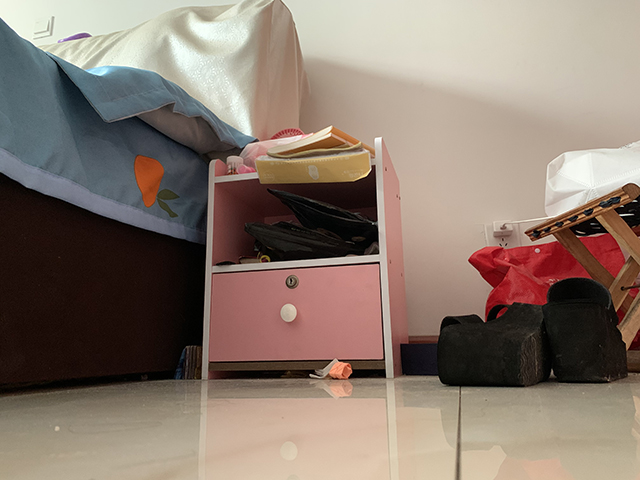bed: (1, 1, 309, 396)
cabinet: (199, 132, 413, 381)
stool: (523, 182, 640, 373)
